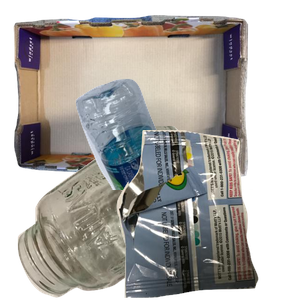cardboard: (11, 13, 251, 182)
glass: (15, 126, 229, 300)
plastic: (73, 76, 300, 256)
trash: (114, 130, 300, 300)
